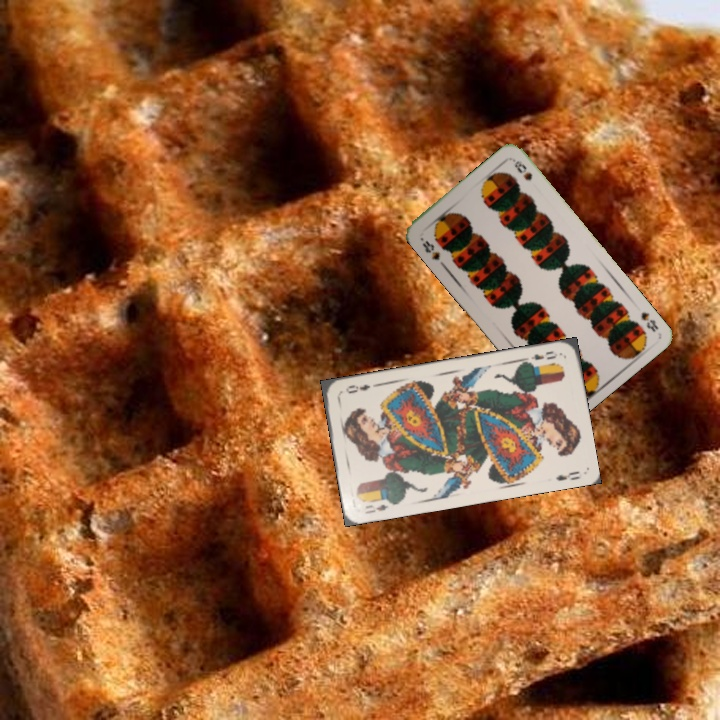EO: (523, 347, 560, 368), (361, 500, 391, 516)
S8: (418, 236, 443, 263), (637, 308, 661, 335)
